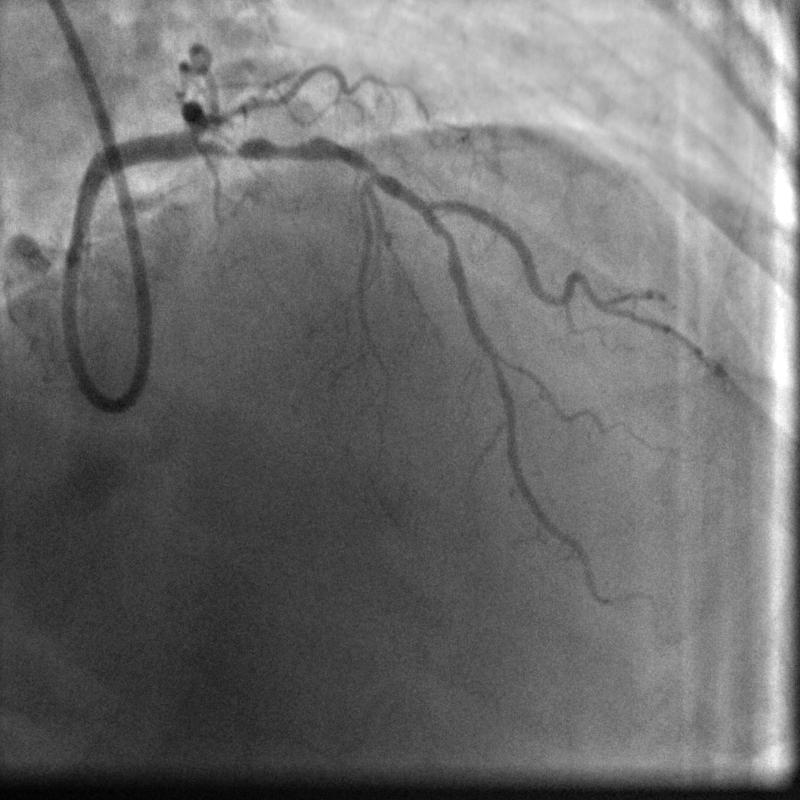Stenosis: (205, 128, 315, 160)
